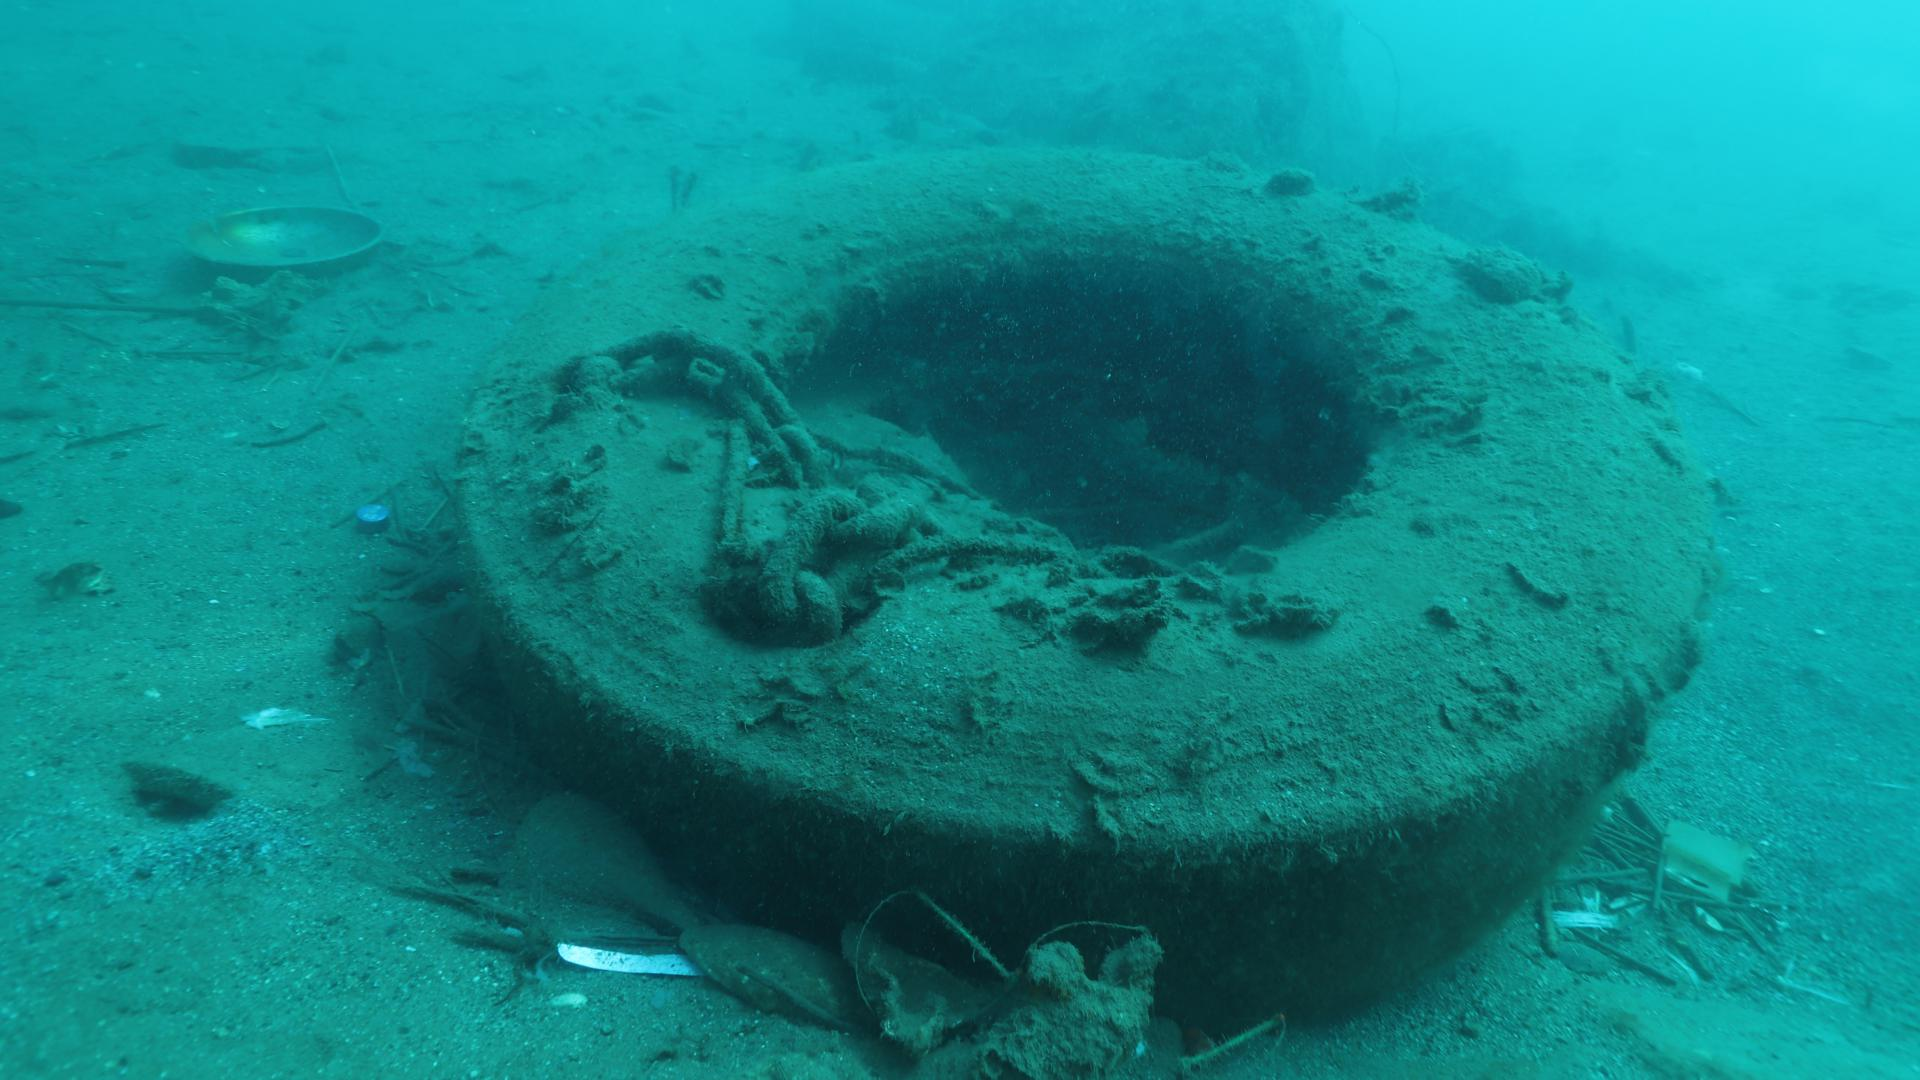tire: (456, 142, 1720, 1029)
